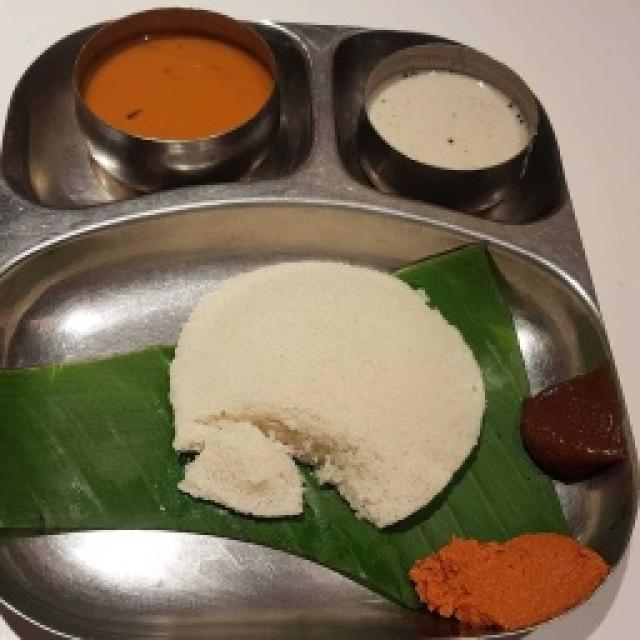idli: (162, 266, 474, 511)
